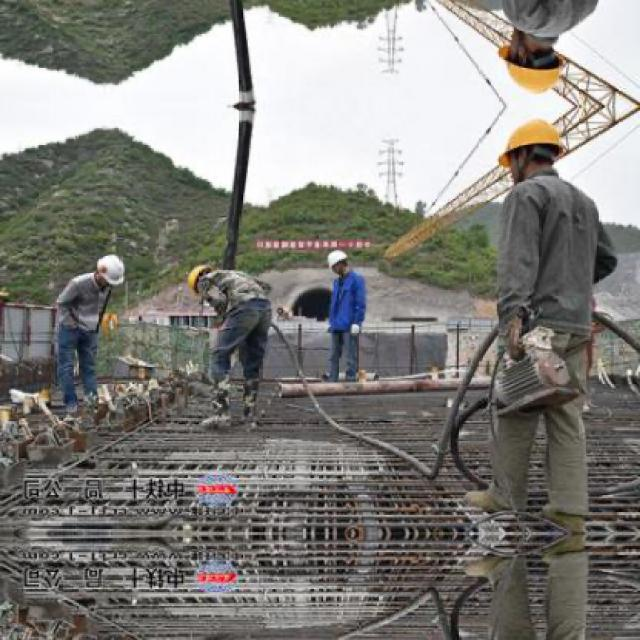2: (462, 117, 616, 532), (460, 535, 615, 639), (460, 0, 615, 97), (188, 261, 272, 430), (59, 253, 132, 415), (314, 247, 369, 387)
helmet: (497, 112, 568, 186), (497, 26, 568, 100), (94, 253, 131, 290), (183, 264, 212, 296), (329, 248, 351, 278)
